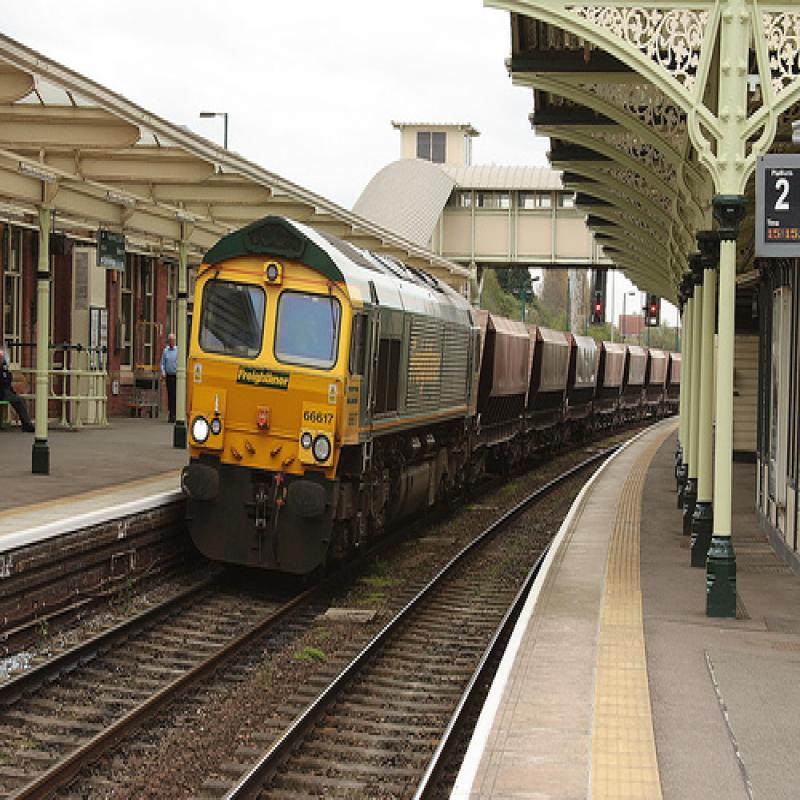train: (169, 212, 681, 592)
